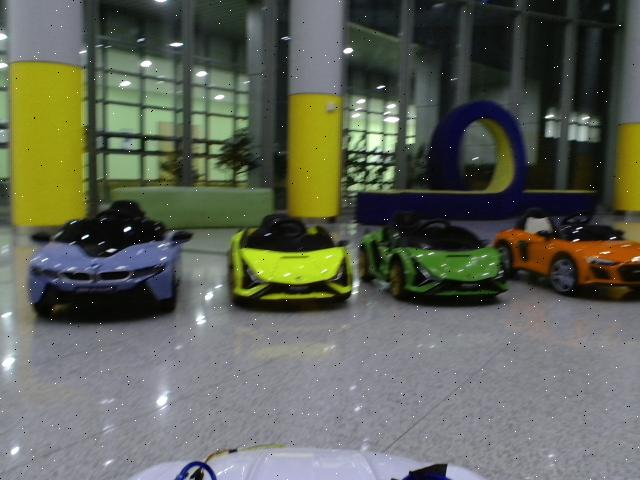car: (26, 200, 194, 318), (358, 213, 508, 300), (490, 208, 637, 294), (229, 214, 353, 307)
